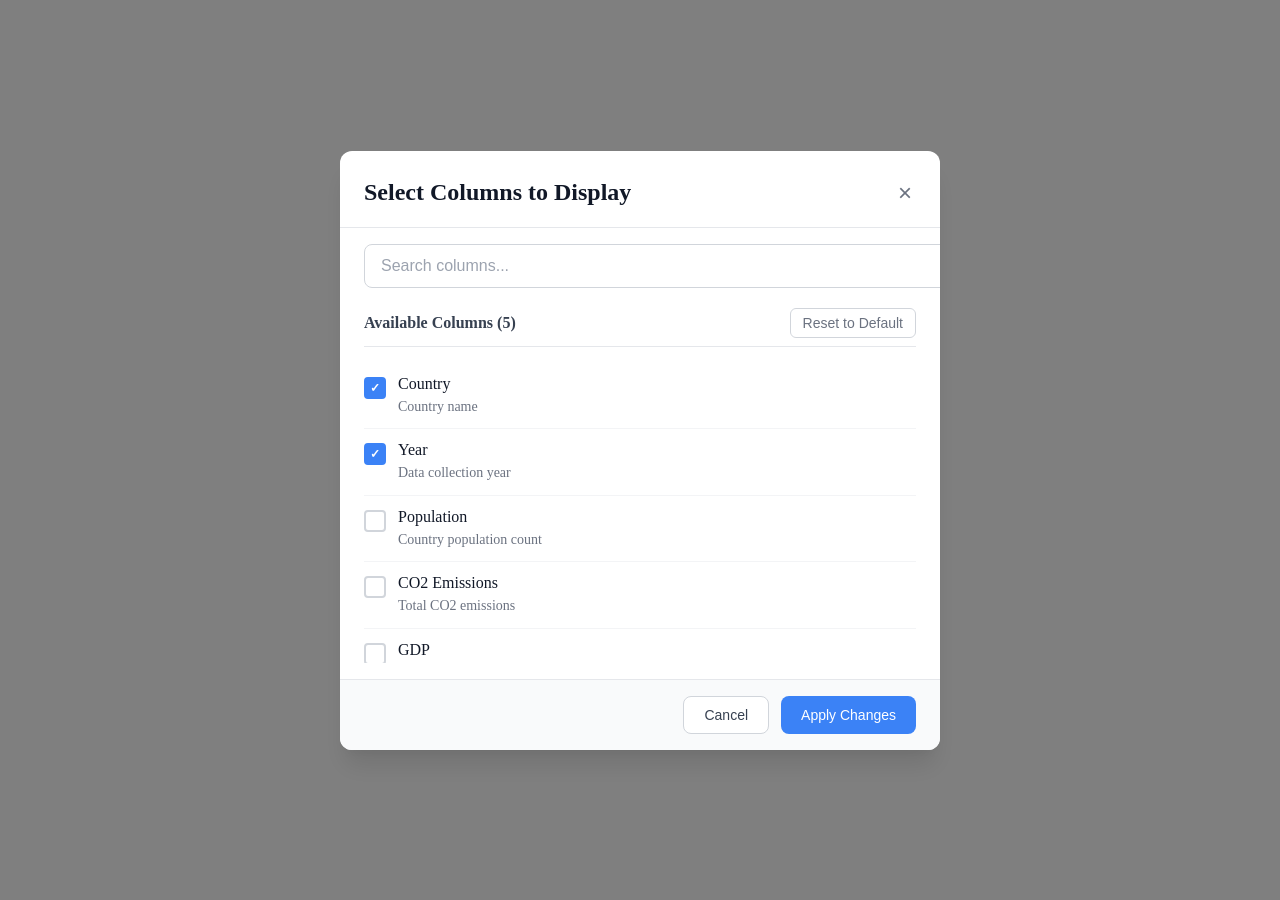
ColumnSelectorModal › filters columns based on search term
In the field with placeholder "Search columns...": (657, 266) [364,244,950,288], type "pop"
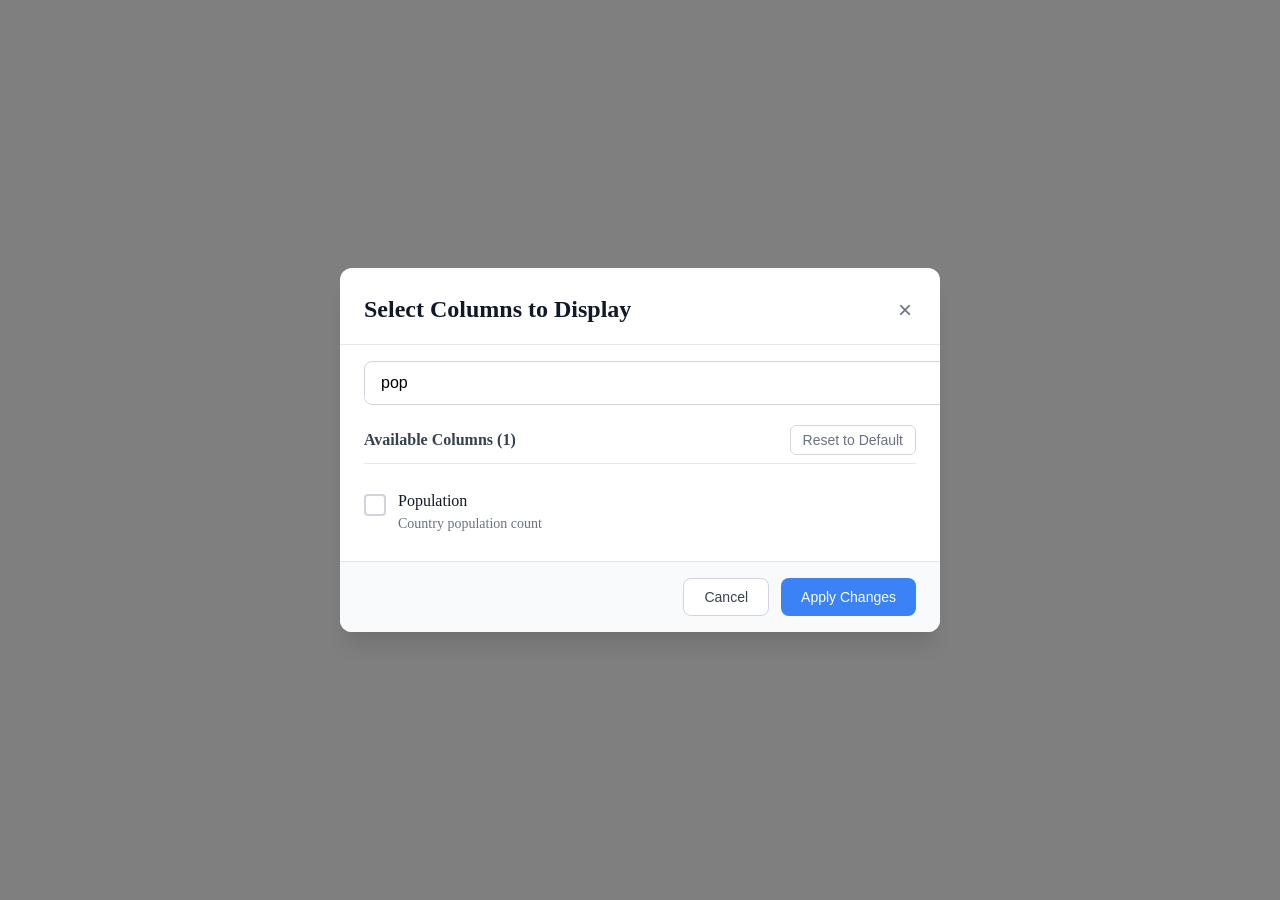
Check: the text "Population" is shown, box [398,492,467,509]
Check: the text "Available Columns (1)" is shown, box [364,431,516,449]
